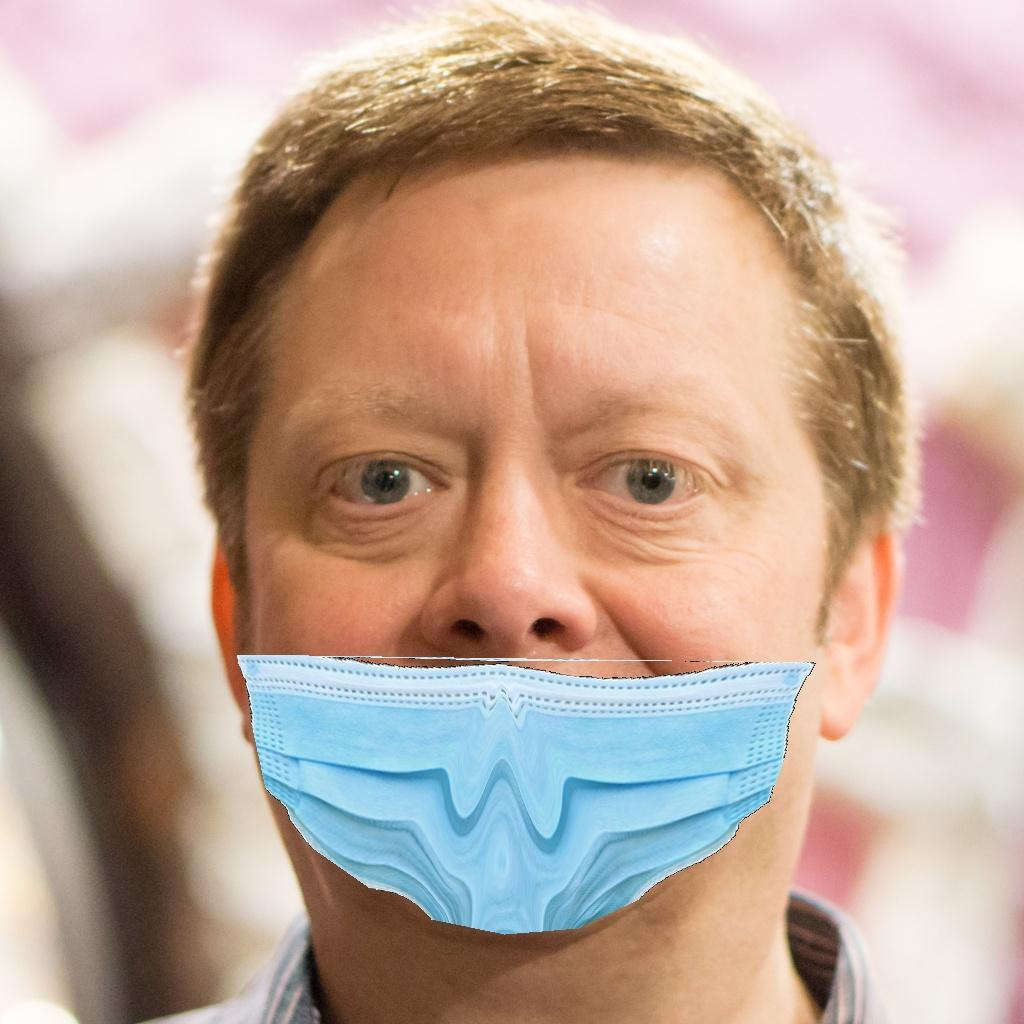Máscara Incorreta: (208, 308, 867, 932)
